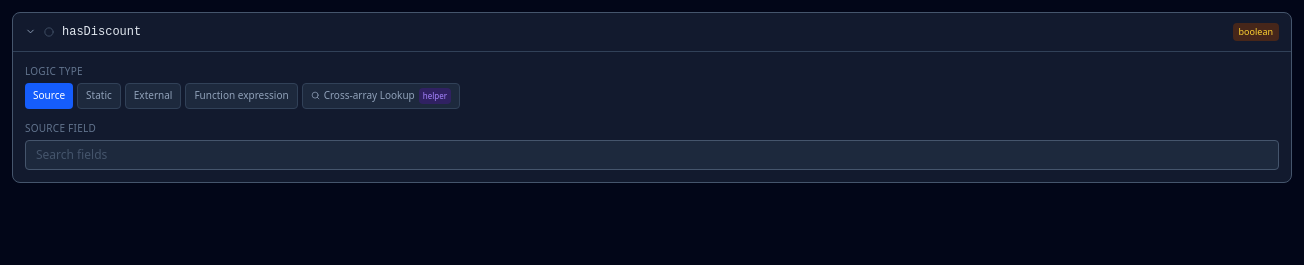
ItemFieldRow › maps item-scoped source options using item scope prefix
Click the field with test id "field-search-hasDiscount" at (652, 154), box [25,140,1279,170]
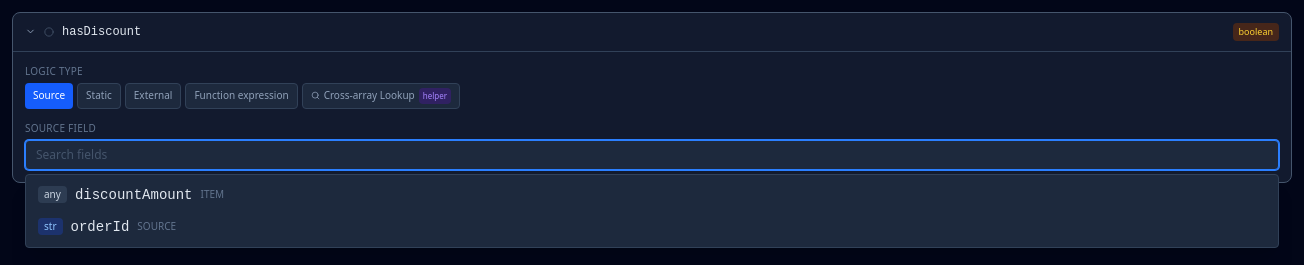
Click the option with test id "field-option-hasDiscount-item-discountAmount" at (134, 194), box [30,178,1274,210]
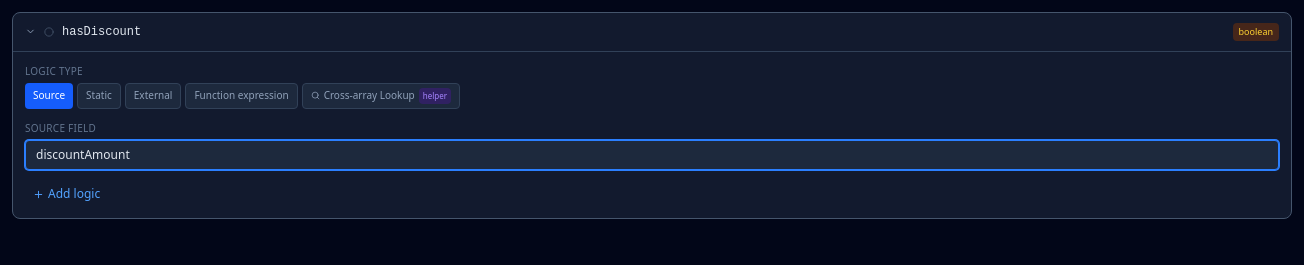
Check: the field with test id "field-search-hasDiscount" holds "discountAmount", box [25,140,1279,170]
